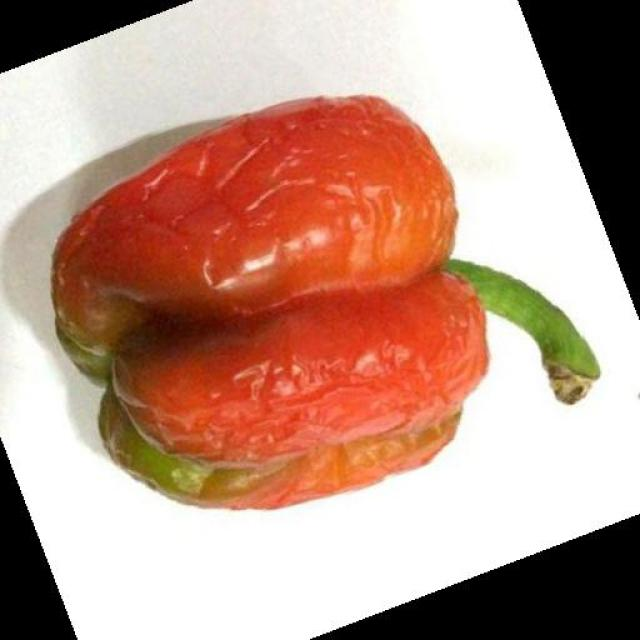Stale_Capsicum: (76, 114, 490, 500)
